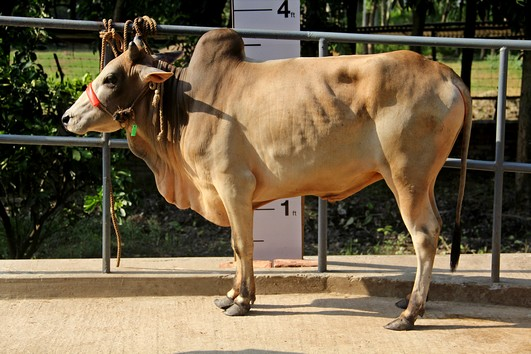cow: (57, 21, 475, 329)
